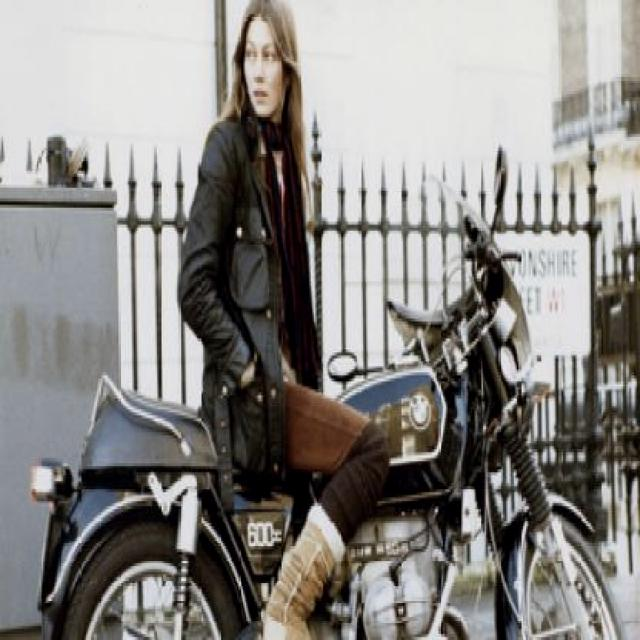Without Helmet: (232, 0, 300, 131)
